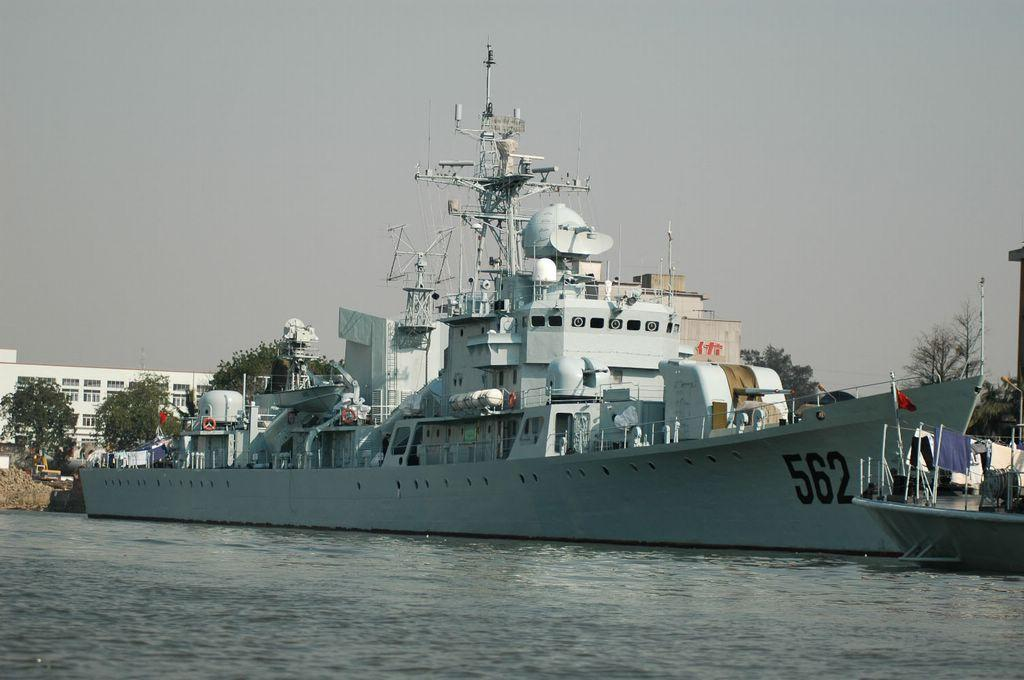Warship: (72, 33, 986, 571)
